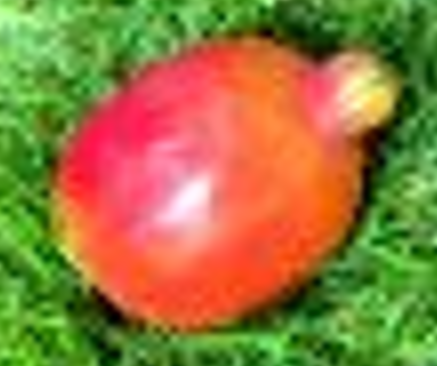pomegranate_A: (47, 33, 405, 332)
